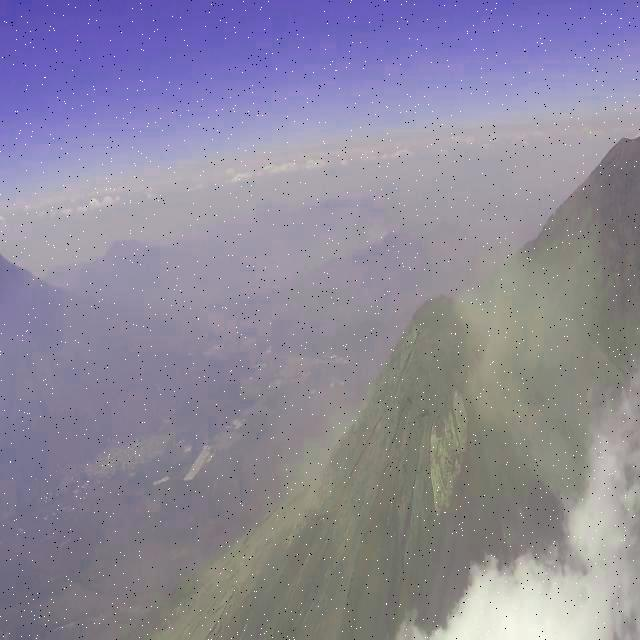Summit: (328, 290, 561, 516)
